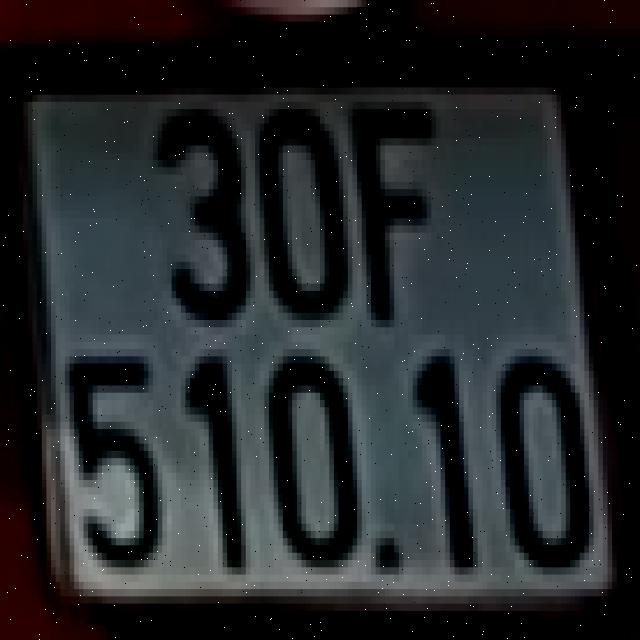0: (498, 345, 592, 571), (267, 349, 364, 567), (258, 95, 350, 320)
1: (415, 349, 480, 575), (183, 353, 248, 571)
3: (155, 102, 253, 327)
5: (67, 345, 165, 571)
F: (350, 98, 438, 324)
